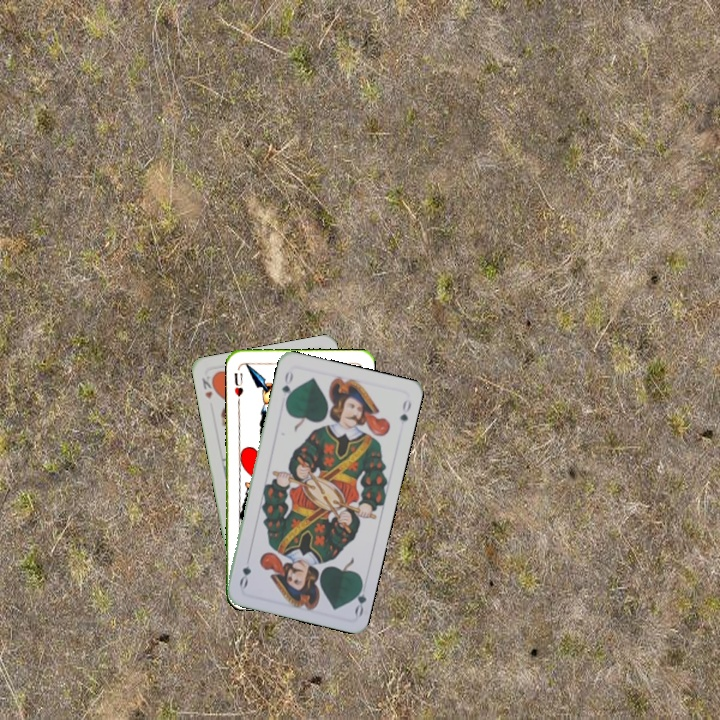GO: (348, 577, 369, 618), (277, 367, 296, 407)
HK: (198, 371, 219, 401)
HU: (230, 369, 246, 405)
